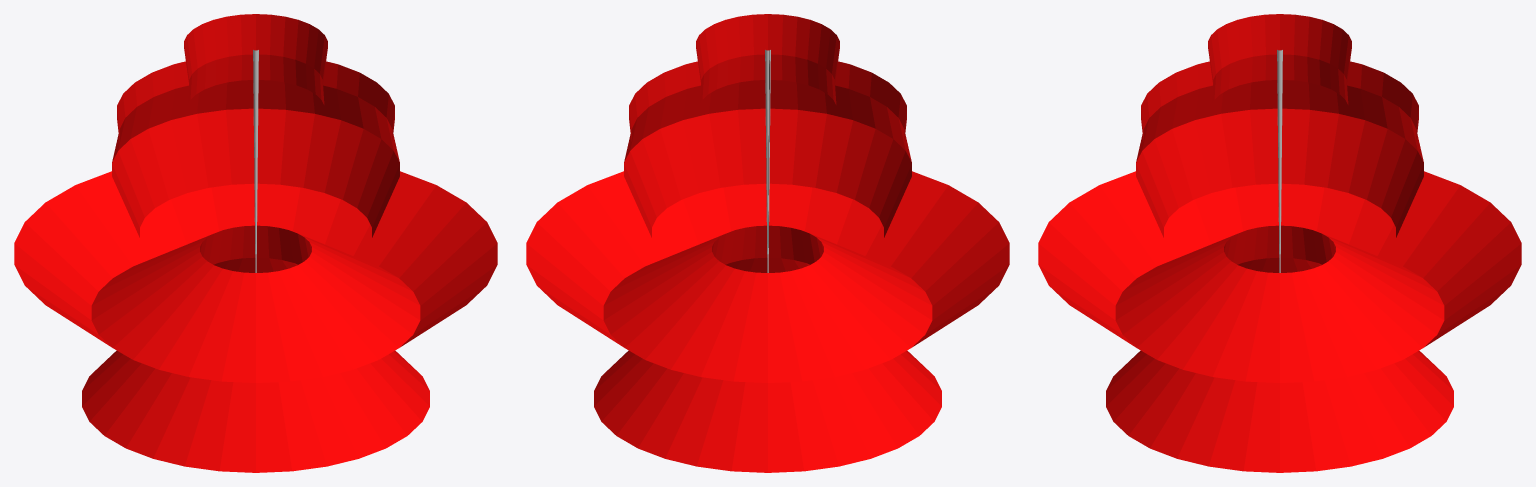
3 views of the same model, side by side, from view 1: azimuth 30°, elevation 25°; view 2: azimuth 150°, elevation 25°; view 3: azimuth 270°, elevation 25° (orthographic).
Parts seen in each view (by area): view 1: algeomath; view 2: algeomath; view 3: algeomath.
Boxes of the visible parts, x1=… form: algeomath: x1=14, y1=14, x2=497, y2=472; algeomath: x1=526, y1=14, x2=1009, y2=472; algeomath: x1=1038, y1=14, x2=1521, y2=472.
Bounding box in the file's own units: 13.41 × 10.78 × 13.33.
1 material, 1 textured.
